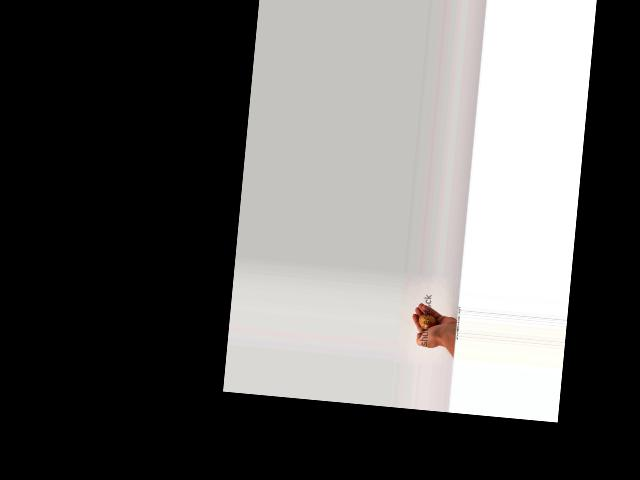egg: (418, 313, 437, 329)
